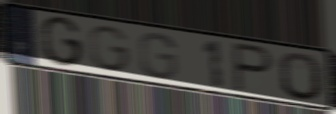1: (202, 40, 226, 90)
G: (40, 15, 84, 69), (87, 24, 133, 74), (137, 31, 180, 81)
O: (277, 51, 325, 103)
P: (231, 40, 276, 95)
